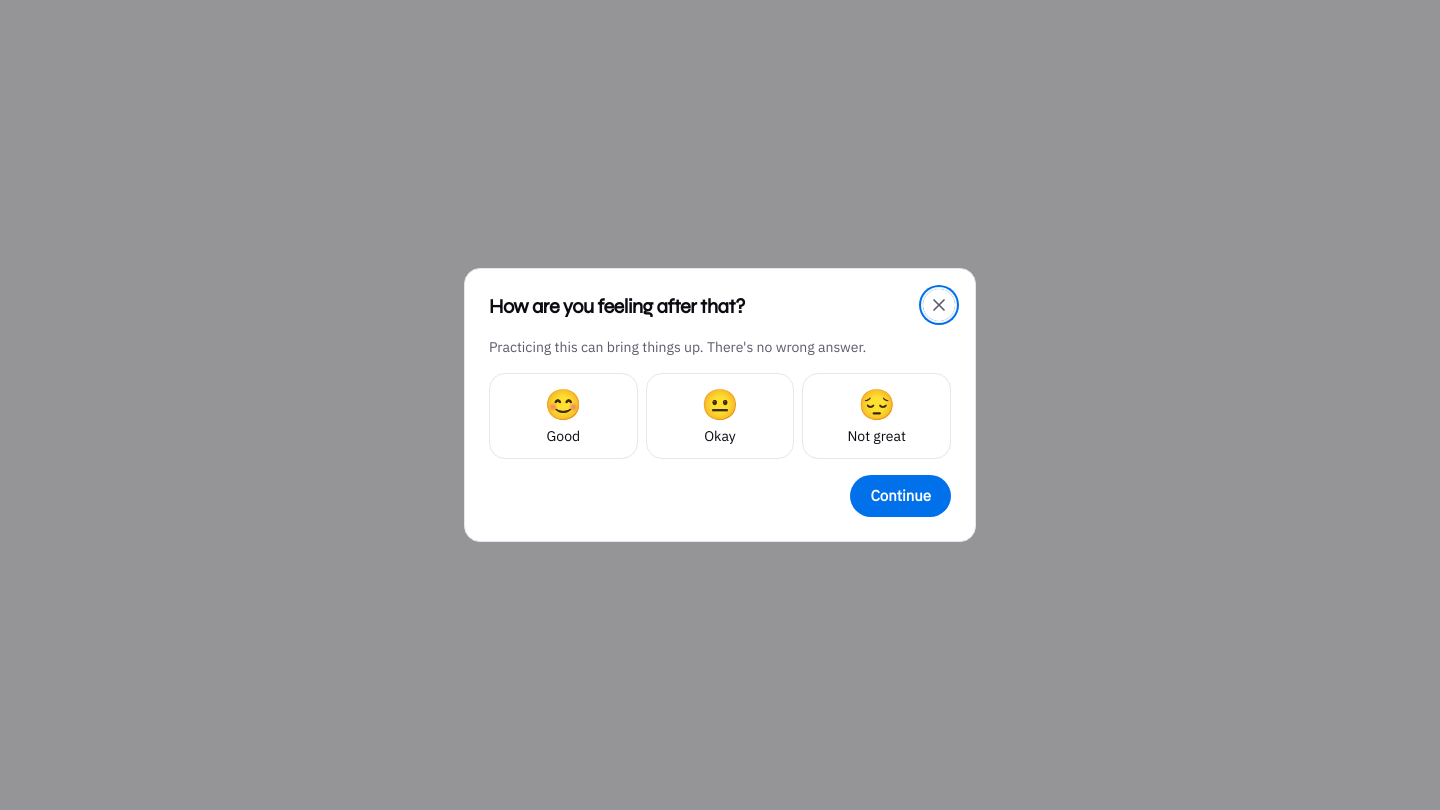
Scenario: after-session check-in › shows resources only when the user feels low
This screenshot has width=1440, height=810.
Step 1. Click the radio button labelled "😊 Good" → (563, 416), box left=489, top=372, right=638, bottom=458
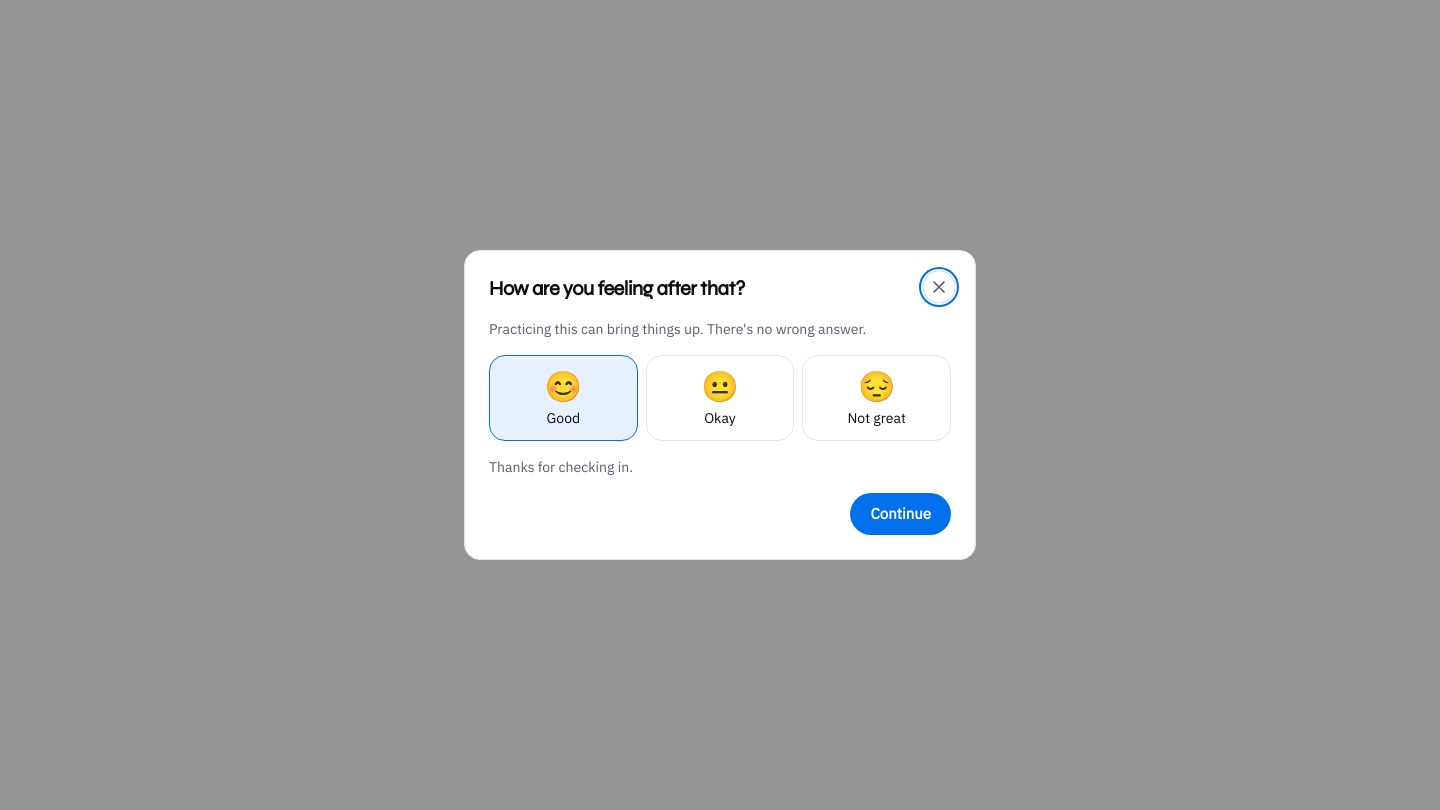
Step 2. Click the radio button labelled "😔 Not great" → (877, 398), box left=802, top=354, right=951, bottom=440
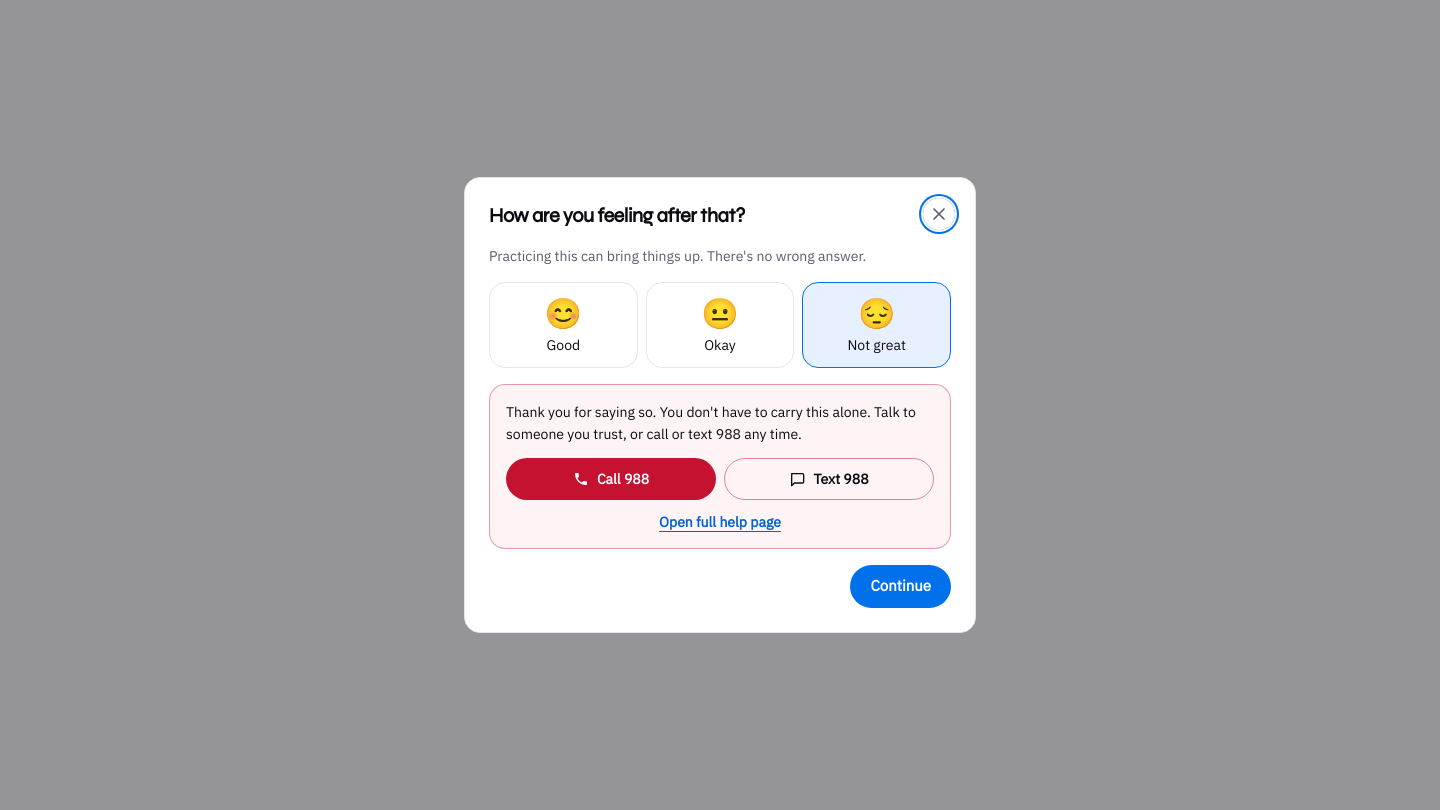
Check: the element with test id "checkin-resources" shows "988", box left=506, top=403, right=916, bottom=444
